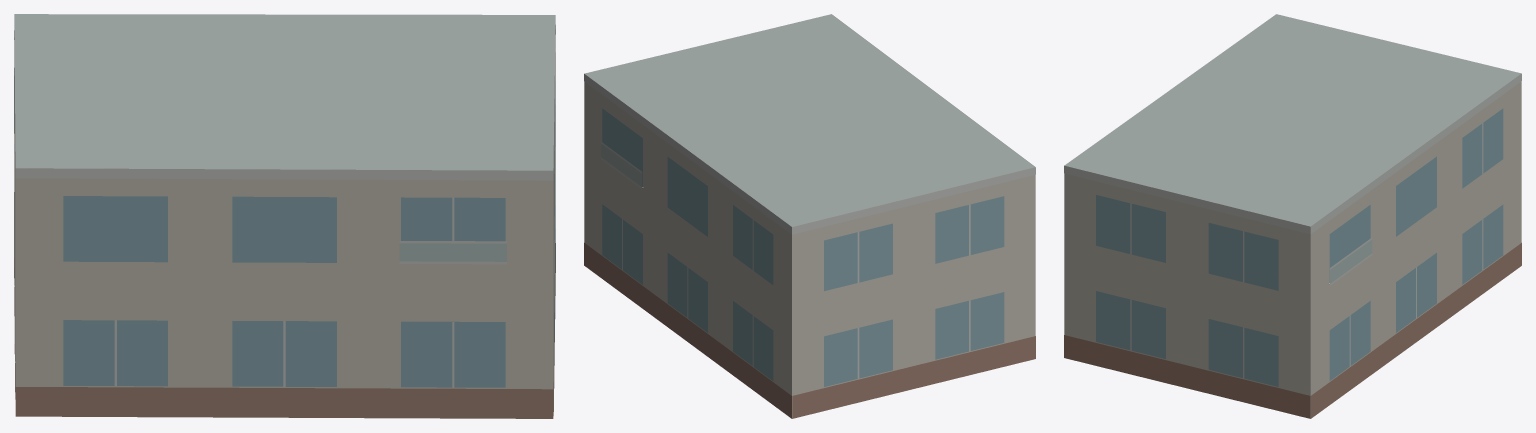
The model's file is survey-upis-32712252.glb.
3 renders of one model, left to right at view 1: azimuth 30°, elevation 25°; view 2: azimuth 150°, elevation 25°; view 3: azimuth 270°, elevation 25°, orthographic. The views are drawn at different scales.
Visible parts, largest first — view 1: survey-upis-32712252.tmp; view 2: survey-upis-32712252.tmp; view 3: survey-upis-32712252.tmp.
Part boxes in pixels (x1,y1,x2,y2): survey-upis-32712252.tmp: [14, 14, 555, 418]; survey-upis-32712252.tmp: [584, 14, 1035, 418]; survey-upis-32712252.tmp: [1064, 14, 1521, 418].
Size of the model in its own units: 14.47 by 6.1 by 13.16.
